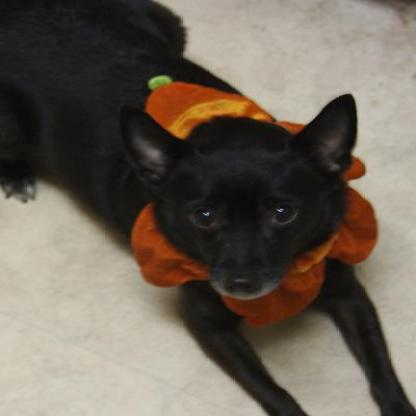schipperke: (1, 1, 413, 413)
